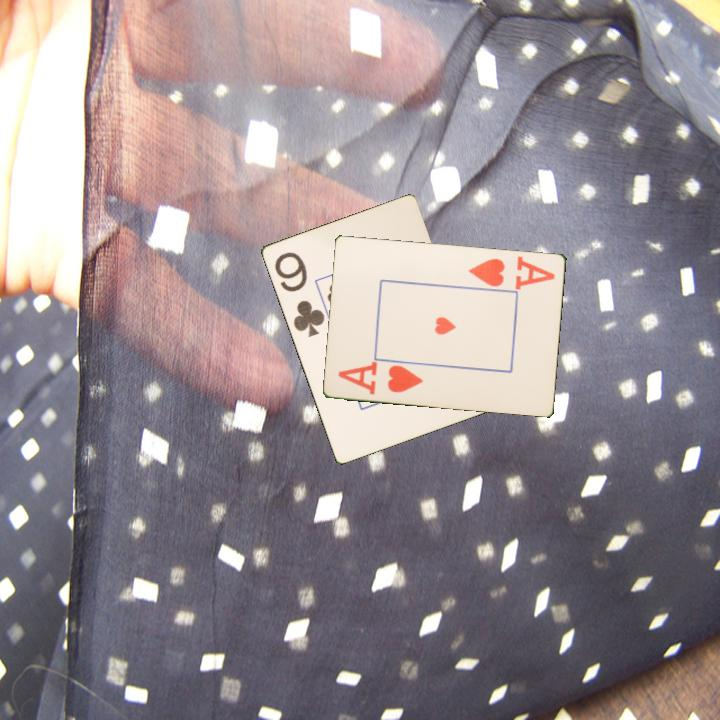9c: (271, 248, 327, 340)
Ah: (465, 252, 558, 292), (335, 360, 426, 397)
